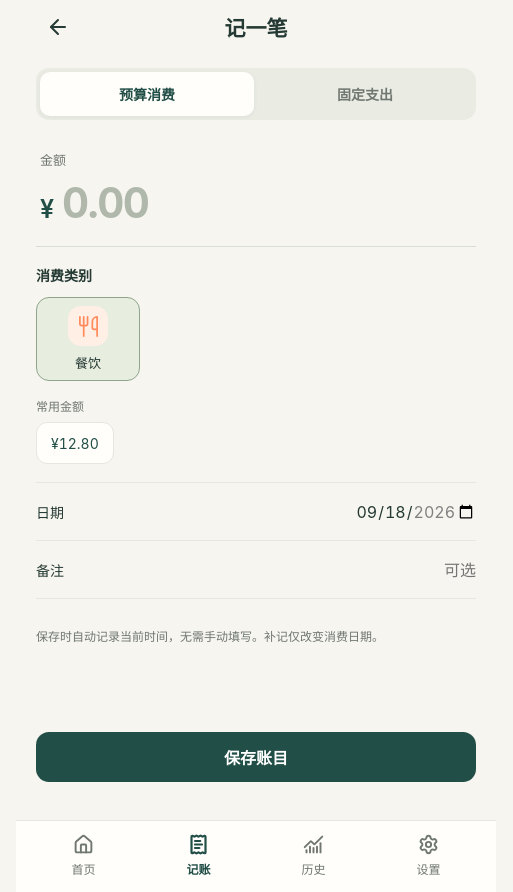
Test case: manual entry › switches to fixed spending and supports project presets
This screenshot has width=513, height=892.
Expected: the heading "记一笔" is shown, [224,16,288,41]
Click the button named "餐饮 ¥12.80" at (75, 443), box [36,422,114,464]
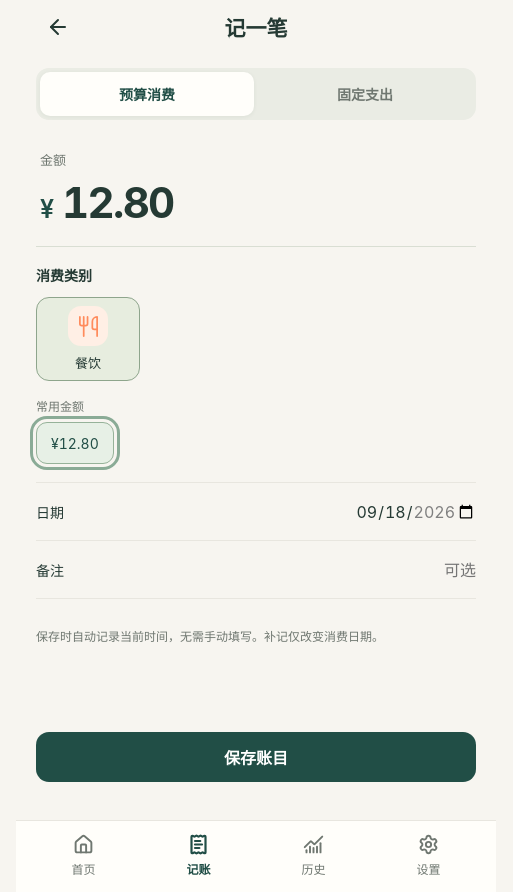
Now the field labelled "金额" holds "12.80", box [62,177,472,228]
Click the button "固定支出" at (365, 94), box [258,72,472,116]
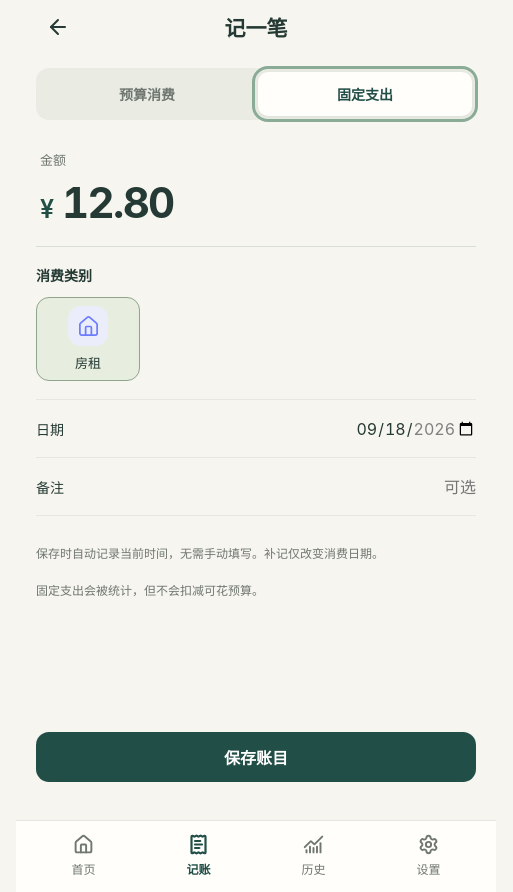
Now the button "房租" is shown, box [36,297,140,381]
